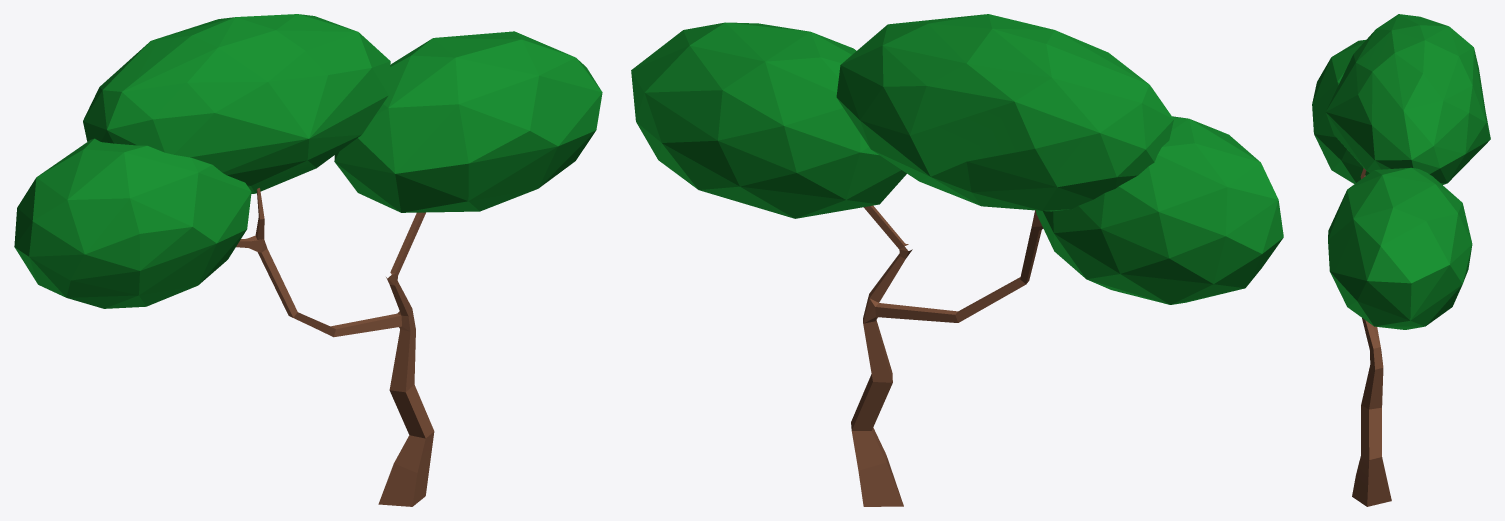
The model's file is TreeStump4.glb.
The picture shows the model from 3 angles, left to right: view 1: azimuth 30°, elevation 25°; view 2: azimuth 150°, elevation 25°; view 3: azimuth 270°, elevation 25°; orthographic projection. The views are drawn at different scales.
Parts seen in each view (by area): view 1: Tree Stump 4; view 2: Tree Stump 4; view 3: Tree Stump 4.
Part boxes in pixels (box(x1,y1,x2,y2)): Tree Stump 4: box(14, 14, 602, 506); Tree Stump 4: box(631, 14, 1283, 506); Tree Stump 4: box(1312, 14, 1490, 506).
Bounding box in the file's own units: 117 × 94.7 × 37.85.
